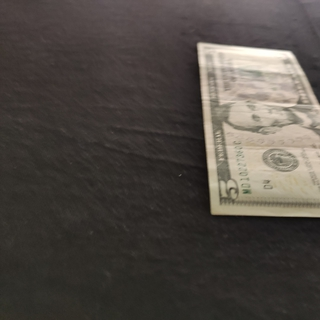5USDFront: (196, 42, 320, 219)
